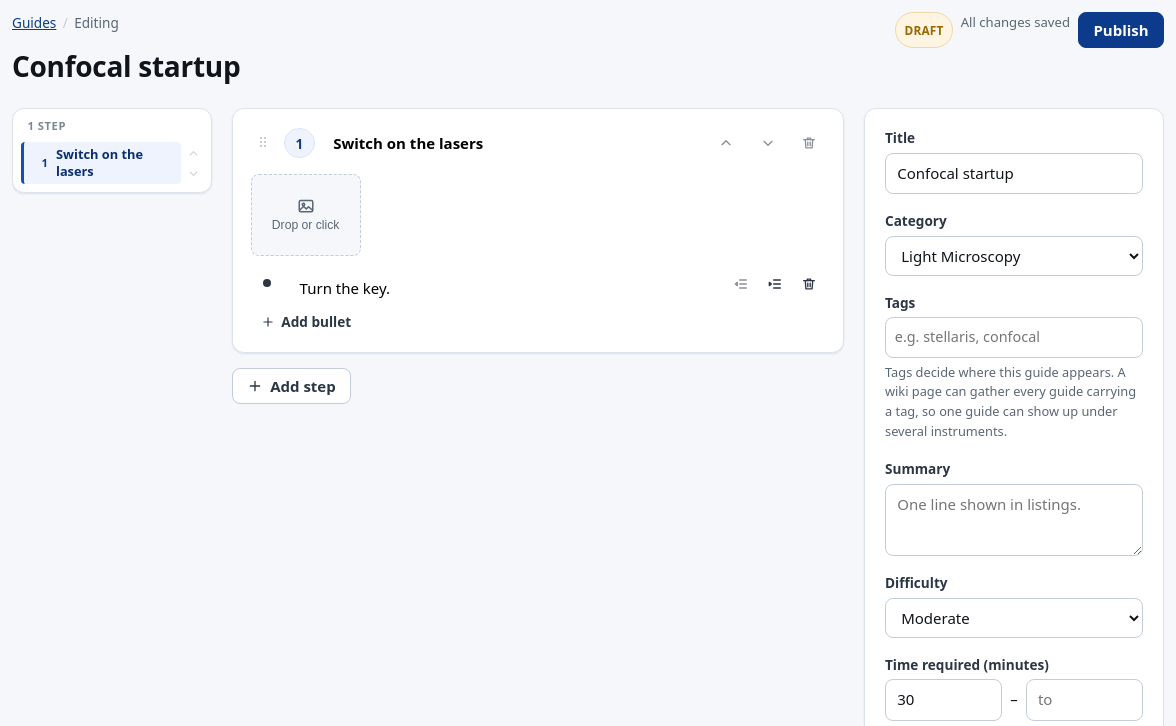
GuideEditorPage › removes an empty bullet on Backspace
Click the text box with placeholder "Describe what to do…" at (504, 288), box x1=290 y1=270 x2=718 y2=306
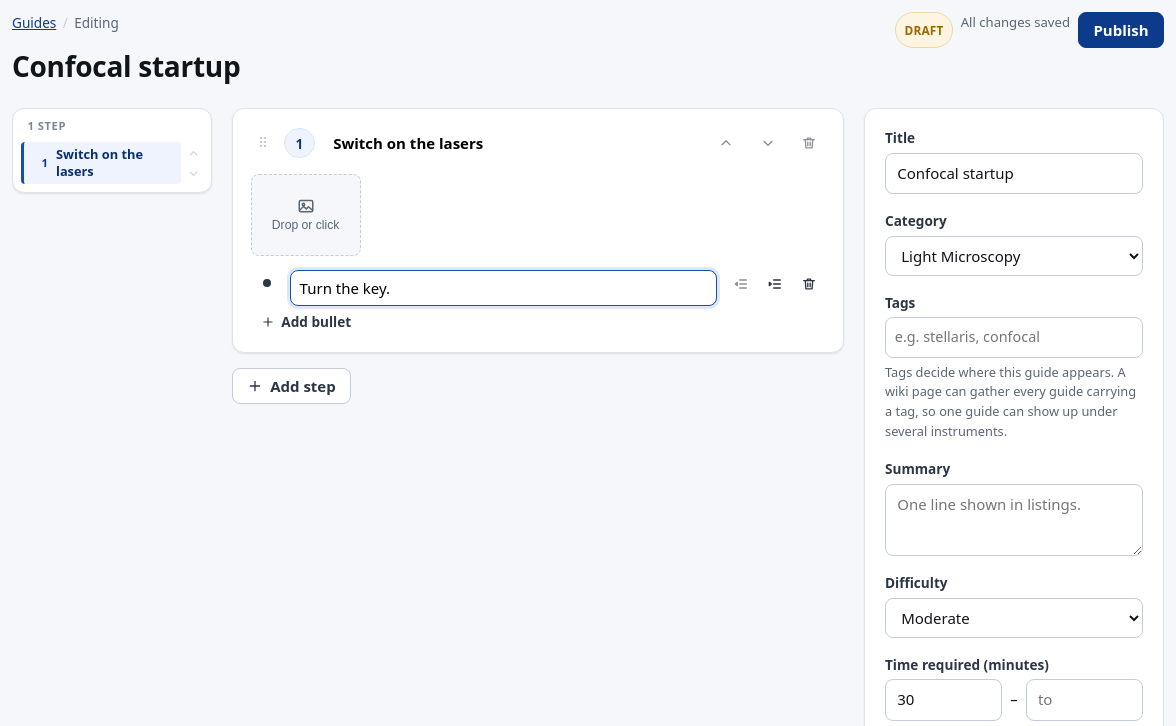
Press Enter
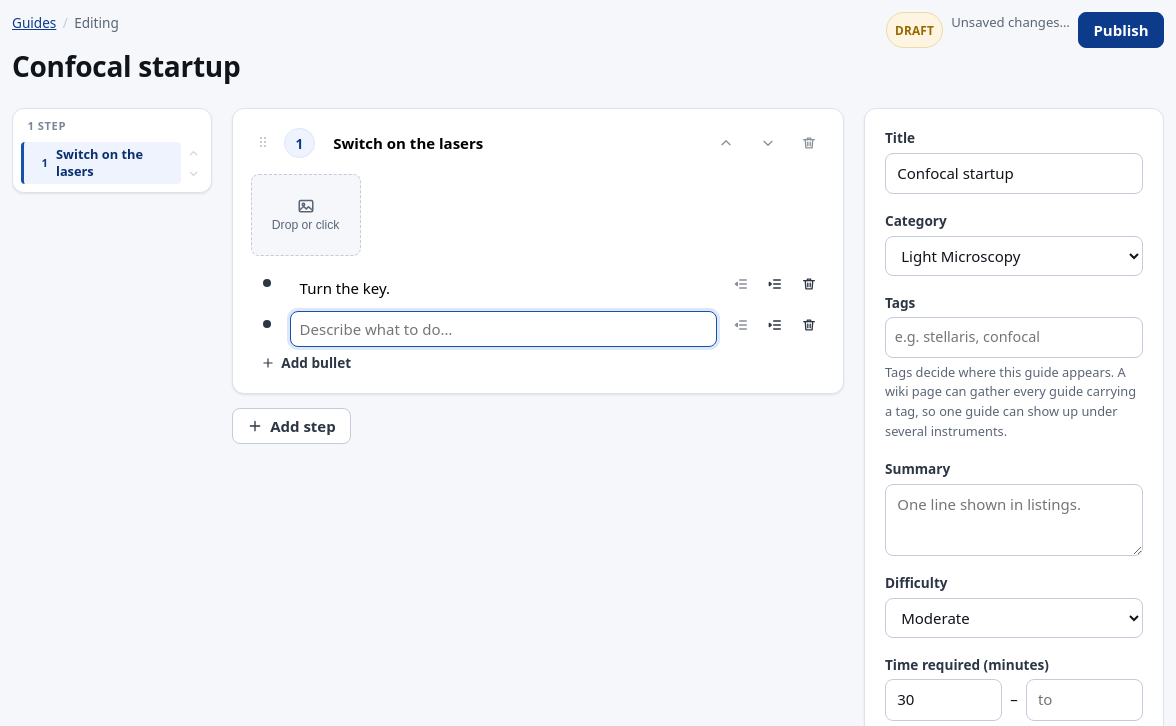
Check: the number of text boxes with placeholder "Describe what to do…" is 2, box x1=290 y1=270 x2=718 y2=306; x1=290 y1=311 x2=718 y2=347
Press Backspace
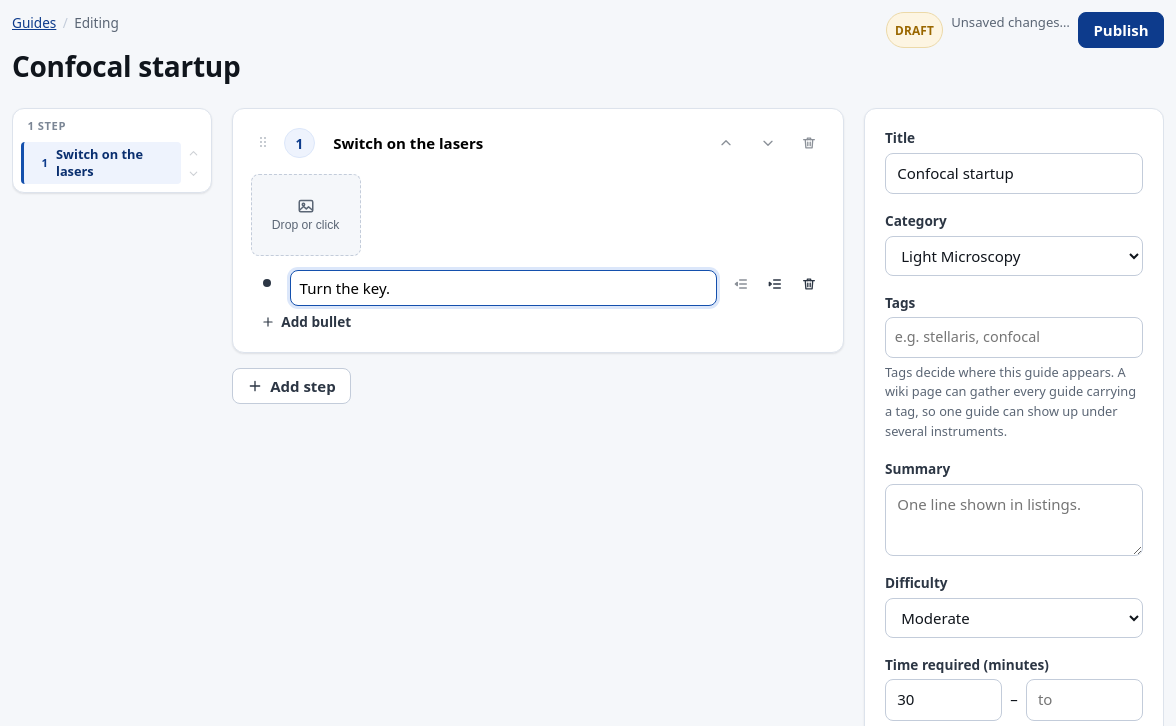
Check: the number of text boxes with placeholder "Describe what to do…" is 1, box x1=290 y1=270 x2=718 y2=306
